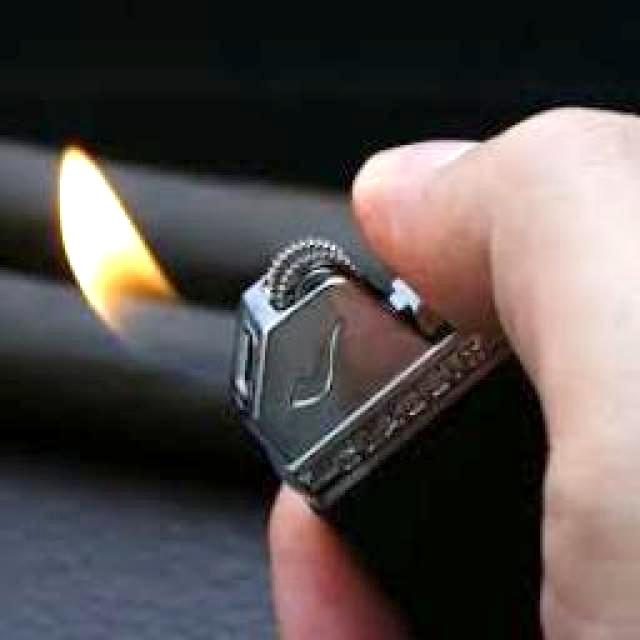fire: (58, 147, 178, 345)
